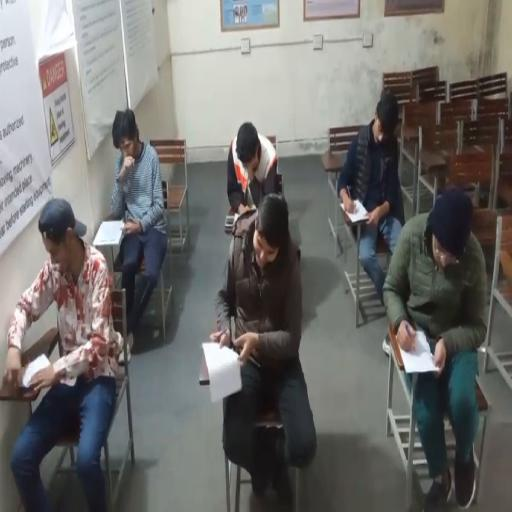paper: (204, 345, 242, 402), (399, 328, 439, 374), (21, 353, 53, 392), (94, 220, 124, 244), (343, 198, 370, 223)
